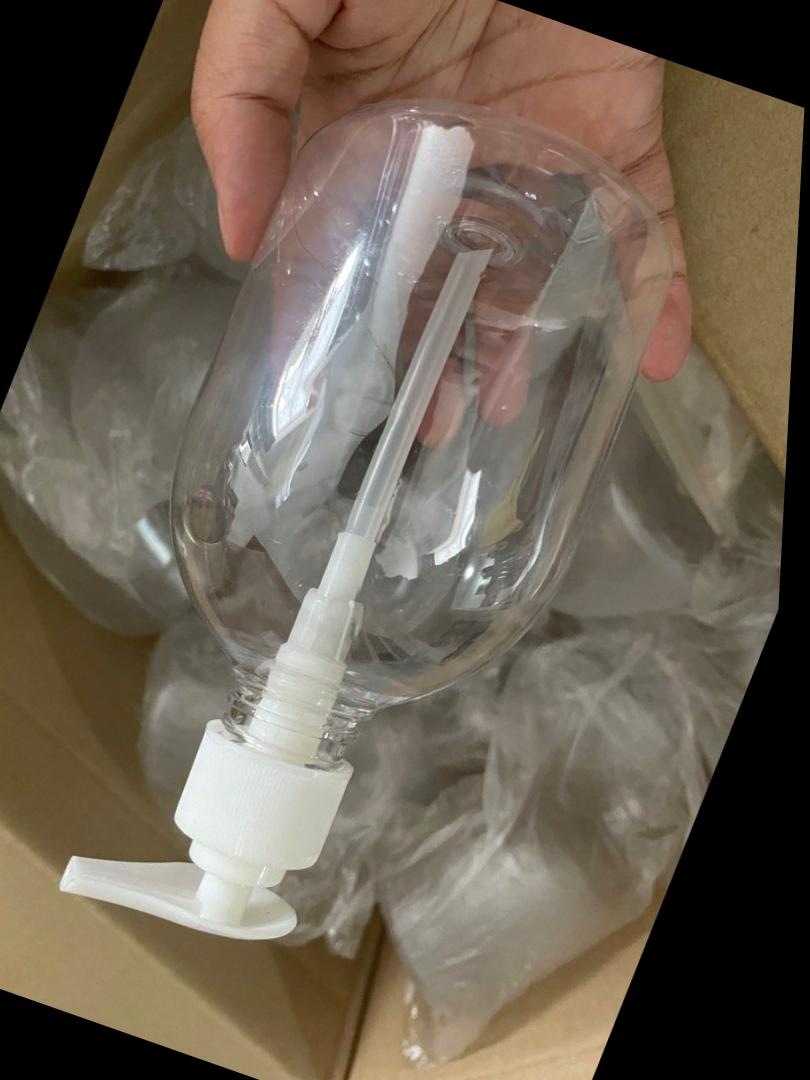plastic: (0, 66, 802, 1061)
